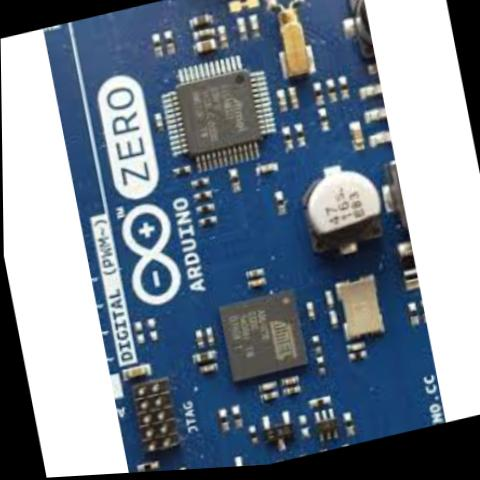Arduino-Zero: (41, 0, 444, 478)
